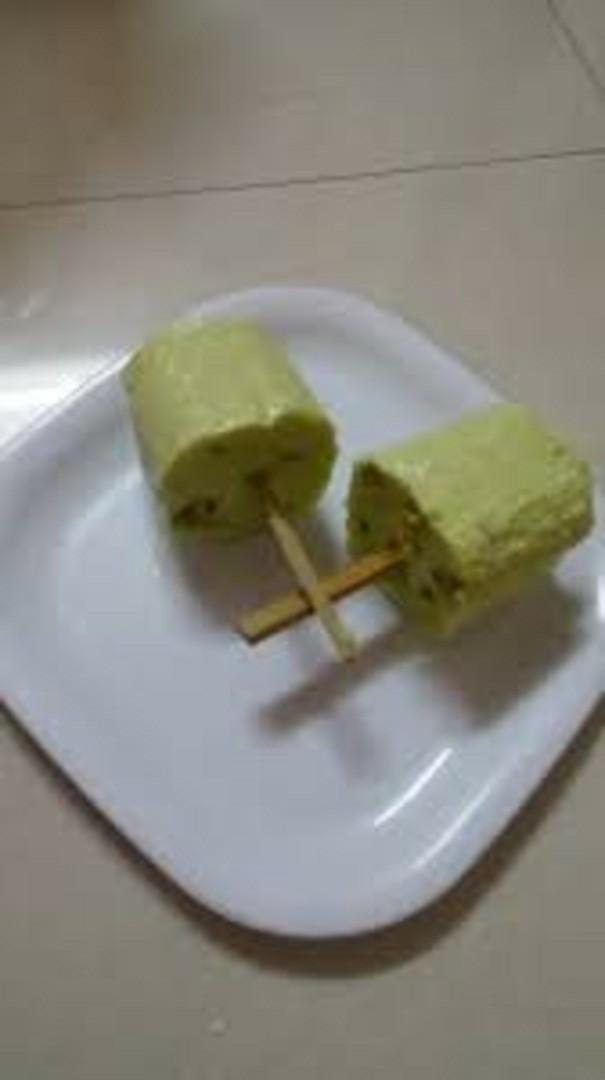Kulfi: (342, 394, 595, 644), (119, 314, 343, 555)
